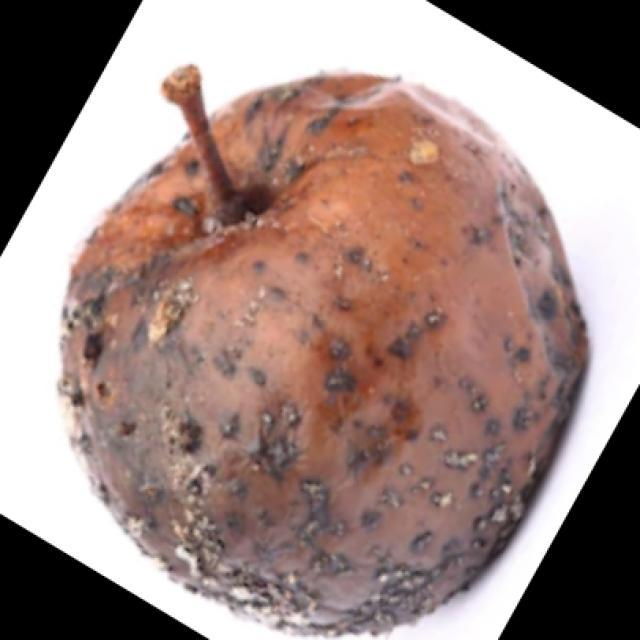Rotten: (55, 67, 585, 635)
